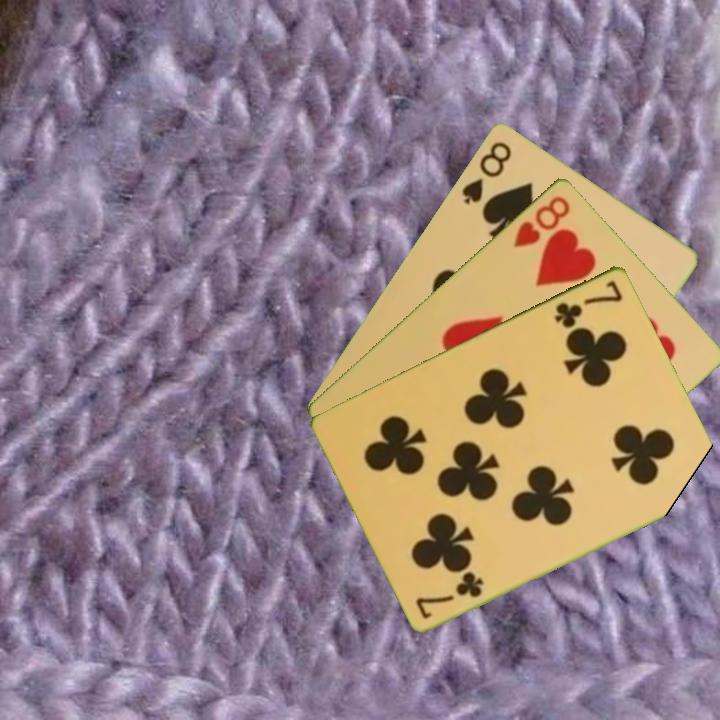7c: (551, 276, 626, 331), (413, 569, 487, 621)
8h: (510, 191, 573, 250)
8s: (457, 137, 515, 207)
